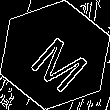M_NE: (20, 21, 90, 89)
